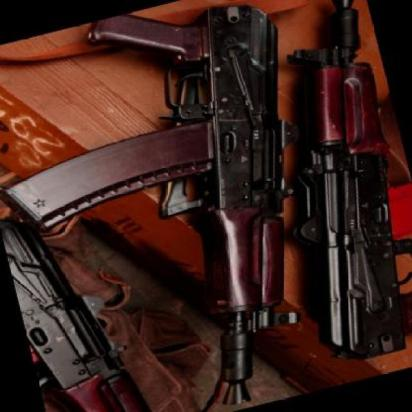Gun: (36, 0, 300, 412)
